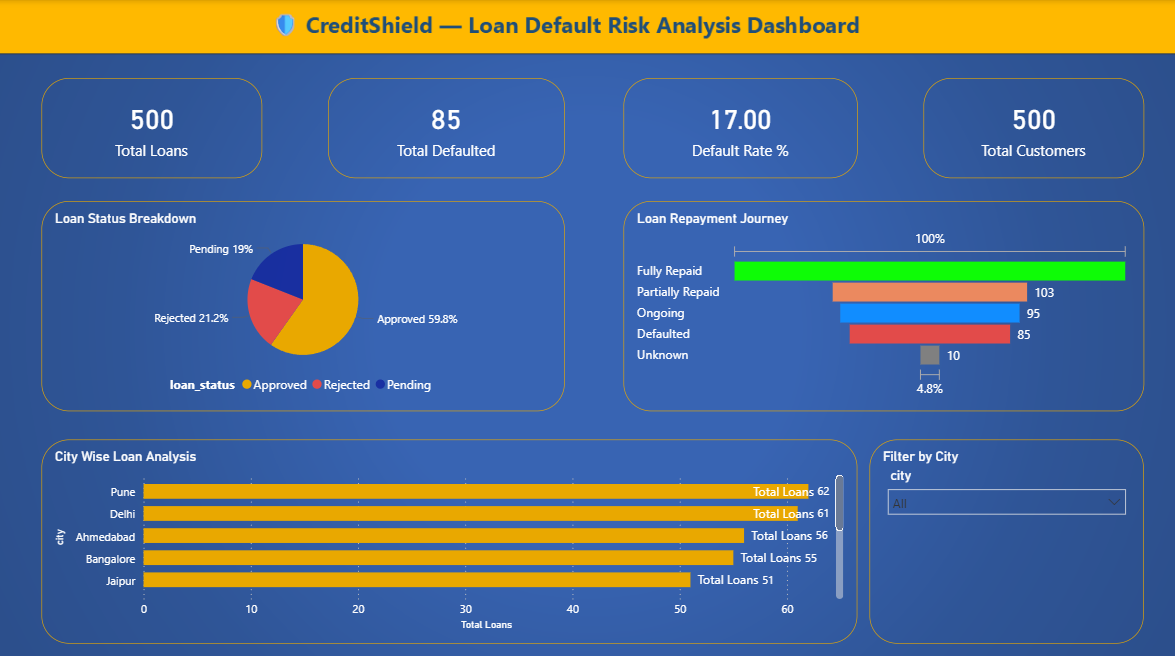

What the dashboard file says about the page in this screenshot:
{"tool":"powerbi","page":{"name":"Page 1","canvas":[1280,720],"ordinal":0},"visuals":[{"type":"card","fields":{"Values":["Loan_Clean.Total Loans"]},"box":[47.2,84.6,239.1,109],"z":0},{"type":"card","fields":{"Values":["Loan_Clean.Default Rate %"]},"box":[678.3,84.6,253.7,109],"z":1},{"type":"card","fields":{"Values":["Clean_Customer.Total Customers"]},"box":[1003.6,84.6,239.1,109],"z":2},{"type":"card","fields":{"Values":["Loan_Clean.Total Defaulted"]},"box":[357.8,84.6,257,109],"z":3},{"type":"pieChart","title":"Loan Status Breakdown","fields":{"Category":["Loan_Clean.loan_status"],"Y":["Loan_Clean.Total Loans"]},"box":[47.2,218,567.7,227.7],"z":4},{"type":"funnel","title":"Loan Repayment Journey","fields":{"Category":["Loan_Clean.repayment_status"],"Y":["Loan_Clean.Total Loans"]},"box":[678.3,218,564.4,227.7],"z":5},{"type":"clusteredBarChart","title":"City Wise Loan Analysis","fields":{"Category":["Clean_Customer.city"],"Y":["Loan_Clean.Total Loans"]},"box":[47.2,476.6,884.8,221.2],"z":6},{"type":"slicer","title":"Filter by City","fields":{"Values":["Clean_Customer.city"]},"box":[945,476.6,297.7,221.2],"z":7}]}

Visuals, with their boxes in screenshot pixels (x1, y1, x2, y2), scaled from the page's 1280x720 canvas onto the 1175x656 screenshot:
card - Loan_Clean.Total Loans: [left=43, top=77, right=263, bottom=176]
card - Loan_Clean.Default Rate %: [left=623, top=77, right=856, bottom=176]
card - Clean_Customer.Total Customers: [left=921, top=77, right=1141, bottom=176]
card - Loan_Clean.Total Defaulted: [left=328, top=77, right=564, bottom=176]
"Loan Status Breakdown" pieChart: [left=43, top=199, right=564, bottom=406]
"Loan Repayment Journey" funnel: [left=623, top=199, right=1141, bottom=406]
"City Wise Loan Analysis" clusteredBarChart: [left=43, top=434, right=856, bottom=636]
"Filter by City" slicer: [left=867, top=434, right=1141, bottom=636]
